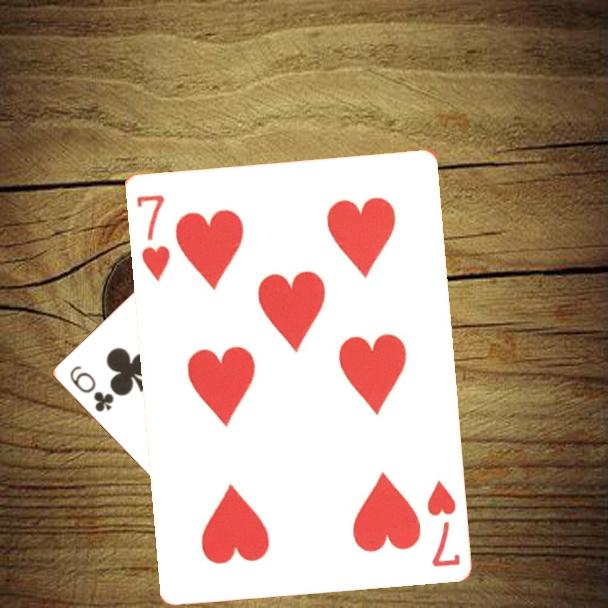c06: (66, 362, 116, 415)
h07: (132, 190, 173, 284), (423, 476, 463, 570)
